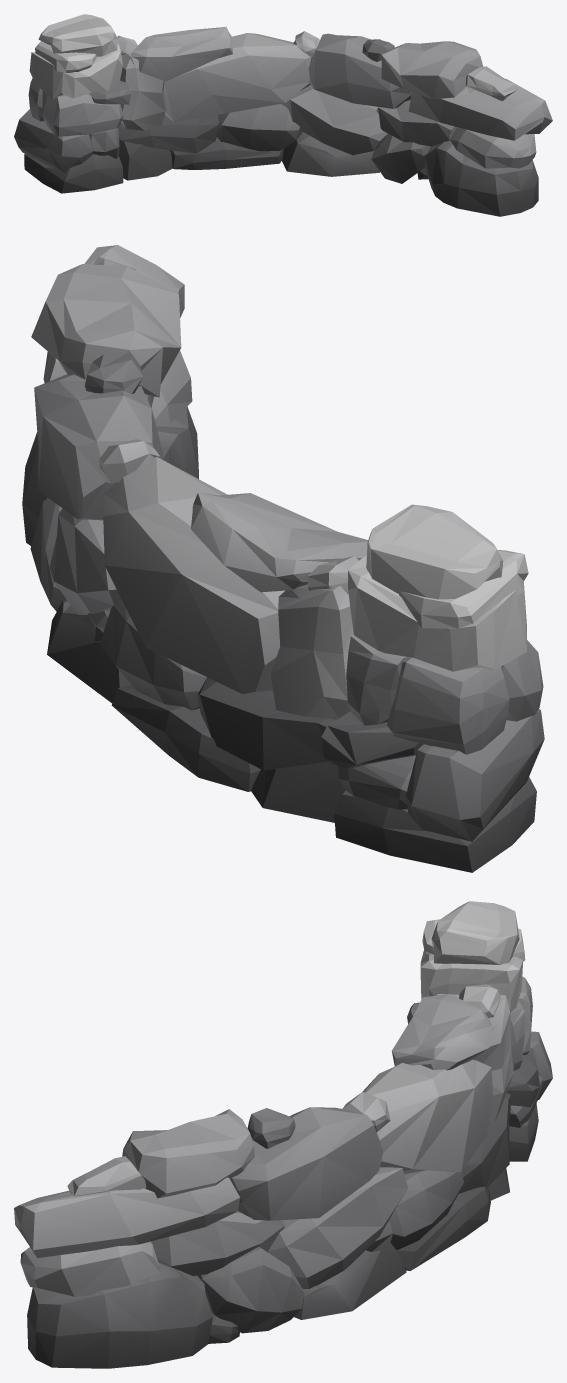
Rendered from RoadFenceStone_Lrg_Bend-01.FBX.
3 renders of one model, top to bottom at view 1: azimuth 30°, elevation 25°; view 2: azimuth 150°, elevation 25°; view 3: azimuth 270°, elevation 25°, orthographic. The views are drawn at different scales.
Visible parts, largest first — view 1: RoadFenceStone_Lrg_Bend-01; view 2: RoadFenceStone_Lrg_Bend-01; view 3: RoadFenceStone_Lrg_Bend-01.
Boxes of the visible parts, <box> form: RoadFenceStone_Lrg_Bend-01: <box>14,14,552,216</box>; RoadFenceStone_Lrg_Bend-01: <box>22,245,544,872</box>; RoadFenceStone_Lrg_Bend-01: <box>14,901,552,1368</box>.
Size of the model in its own units: 362 by 146 by 308.
Materials: 1 (1 with a texture image).
